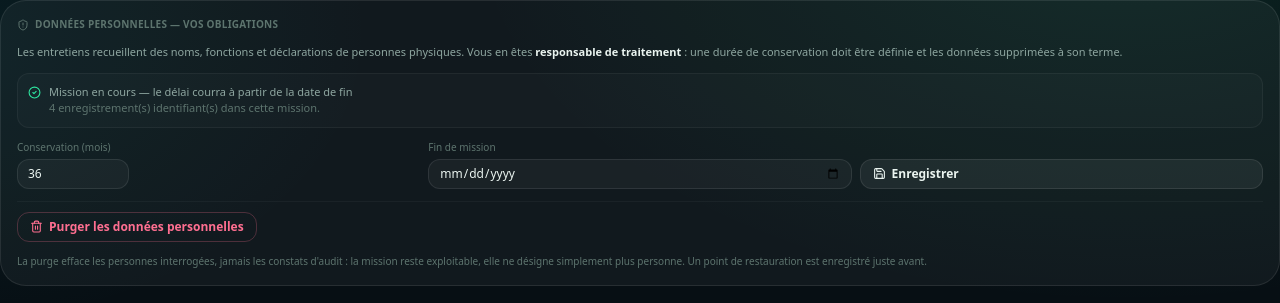
it: RgpdPanel › demande confirmation avant de purger
Click the button "Purger les données personnelles": [137, 226] box [17, 212, 257, 242]
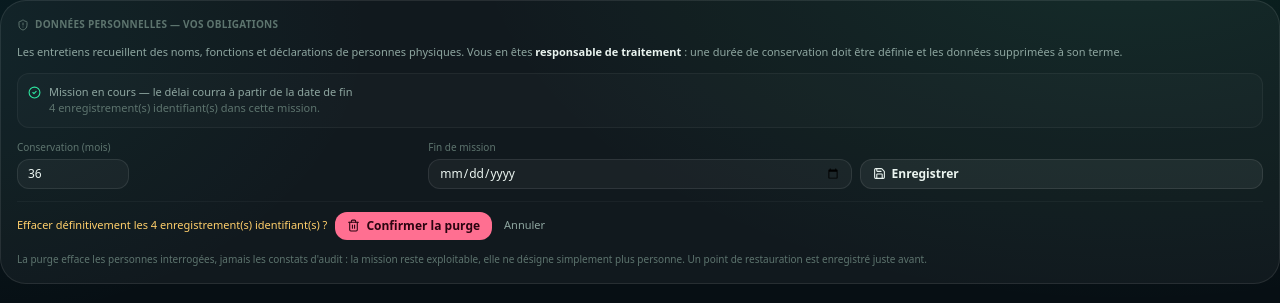
expect the text "Effacer définitivement les 4" is shown: met, box [17, 217, 327, 234]
